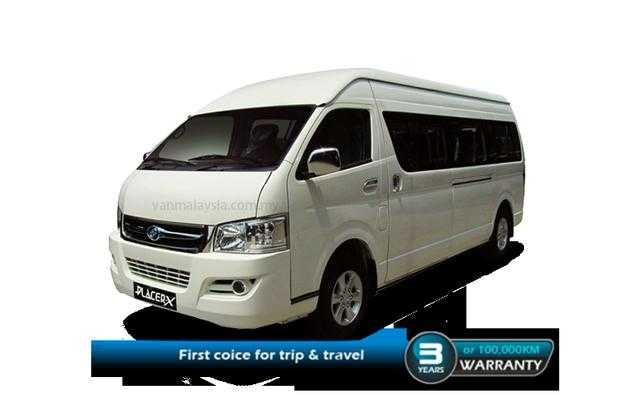van: (107, 67, 525, 336)
